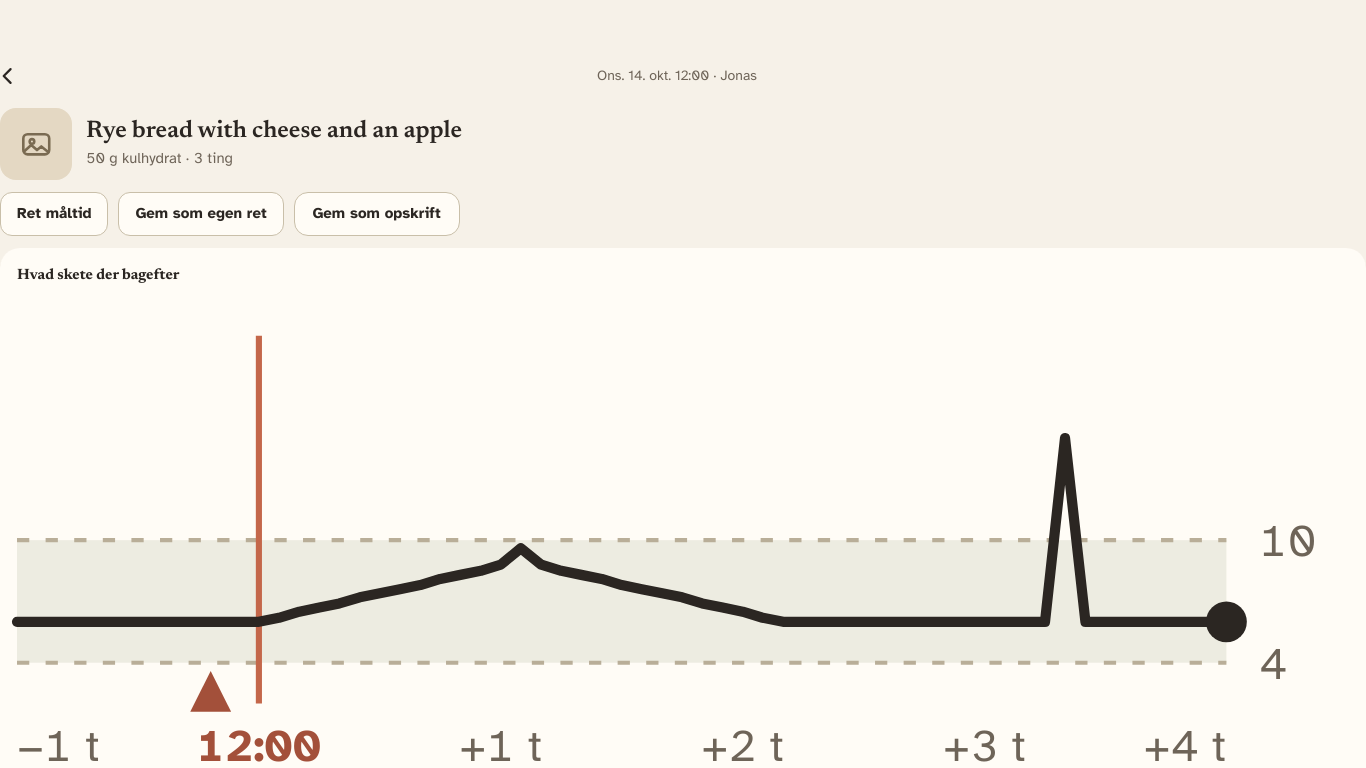
Test: a stored bolus time on meal detail › phone: the edit sheet has no bolus control, and saving an edit keeps the stored time
Expected: the element with test id "bolus" is shown, [190,671,231,712]
Click the button "Ret måltid" at coordinates (54, 214), box [0,192,108,236]
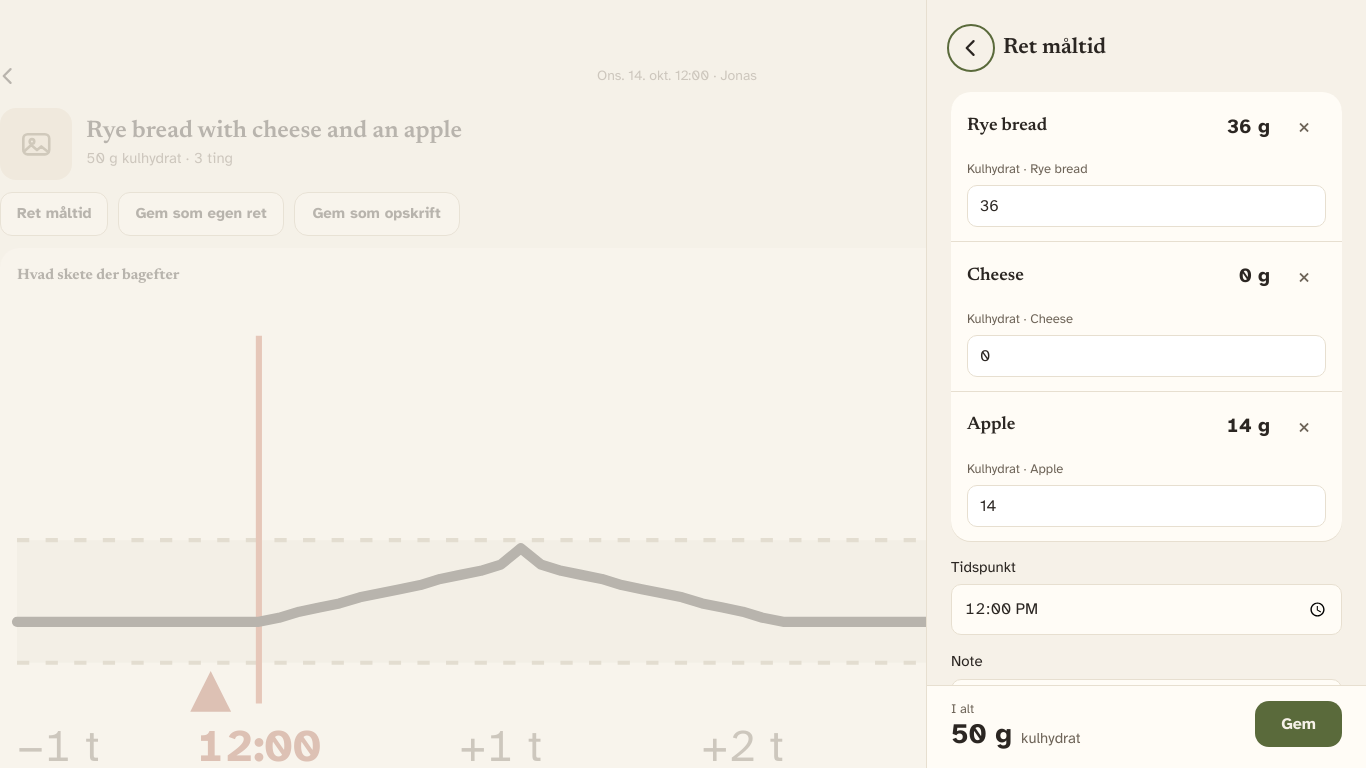
Click the button "Gem" at coordinates (1299, 724), box [1255,701,1342,747]
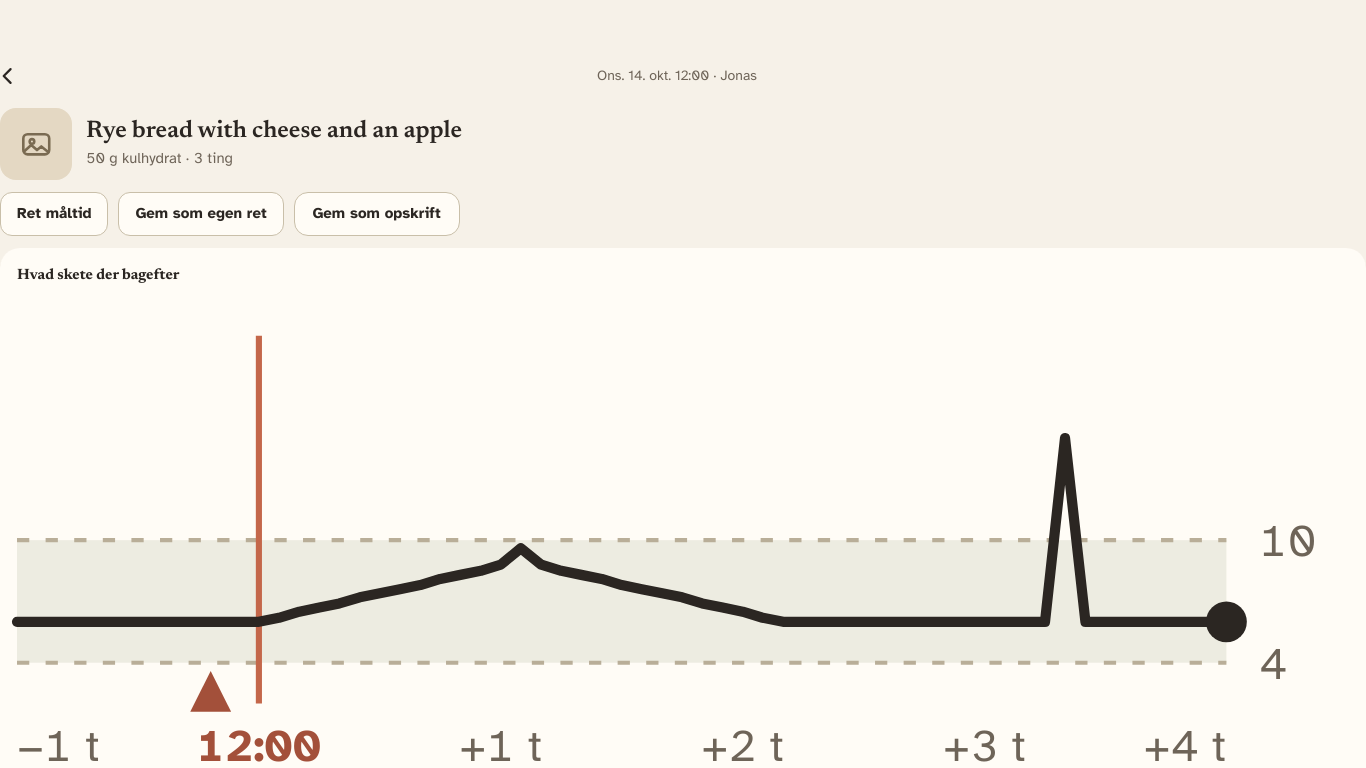
Expected: the element with test id "bolus" is shown, [190,671,231,712]
Now the dialog is gone
